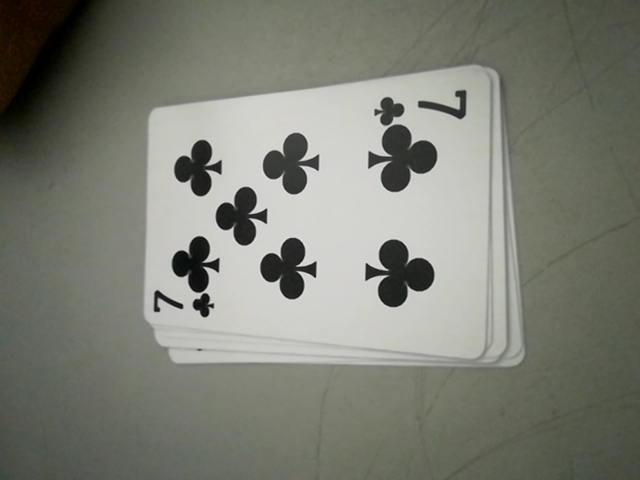mh 7: (369, 84, 477, 128), (153, 289, 218, 326)
